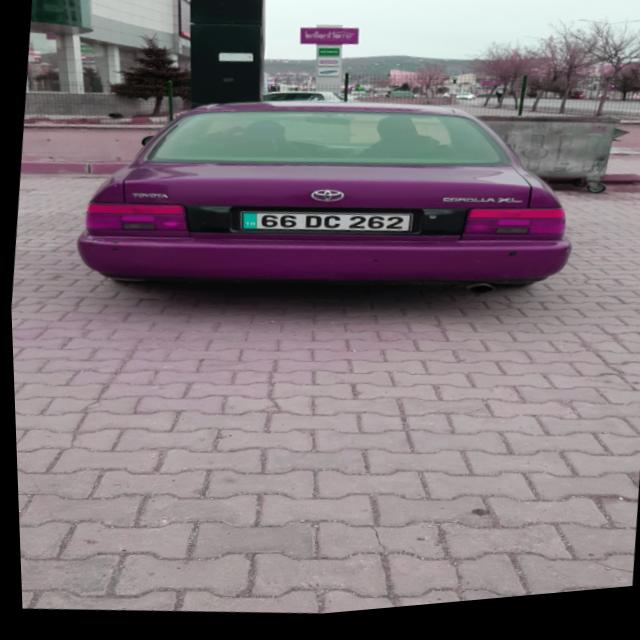license_plate: (235, 203, 411, 251)
